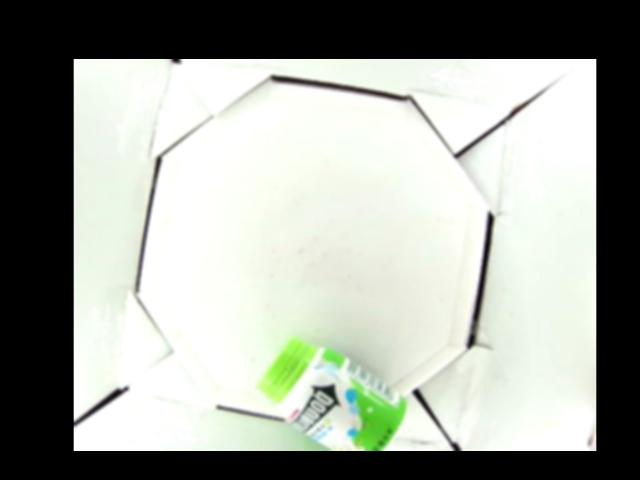Bottle: (255, 335, 407, 451)
